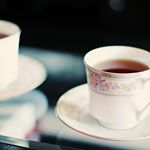cups: (79, 42, 150, 131), (1, 16, 24, 90)
